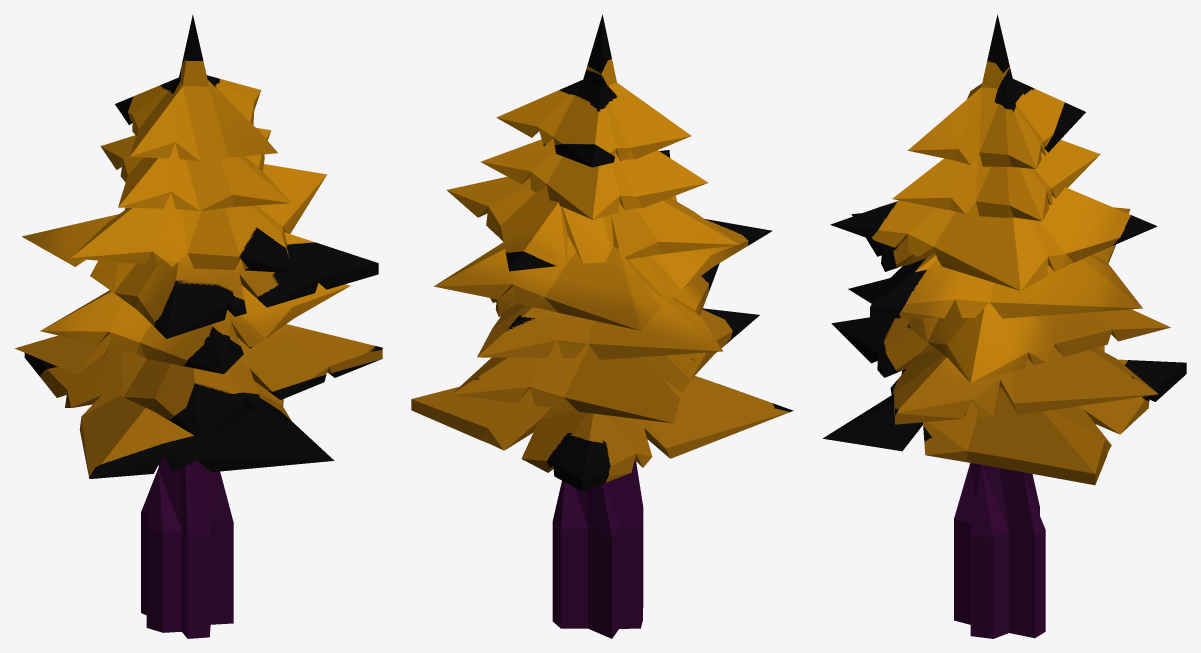
Rendered from tree_type_2_4.glb.
The picture shows the model from 3 angles, left to right: view 1: azimuth 30°, elevation 25°; view 2: azimuth 150°, elevation 25°; view 3: azimuth 270°, elevation 25°; orthographic projection.
Parts seen in each view (by area): view 1: Object_351.076; view 2: Object_351.076; view 3: Object_351.076.
Boxes of the visible parts, <box> form: Object_351.076: <box>15,14,382,638</box>; Object_351.076: <box>411,14,793,638</box>; Object_351.076: <box>823,14,1186,638</box>.
Bounding box in the file's own units: 2.75 × 5.43 × 2.94.
Materials: 1 (1 with a texture image).
